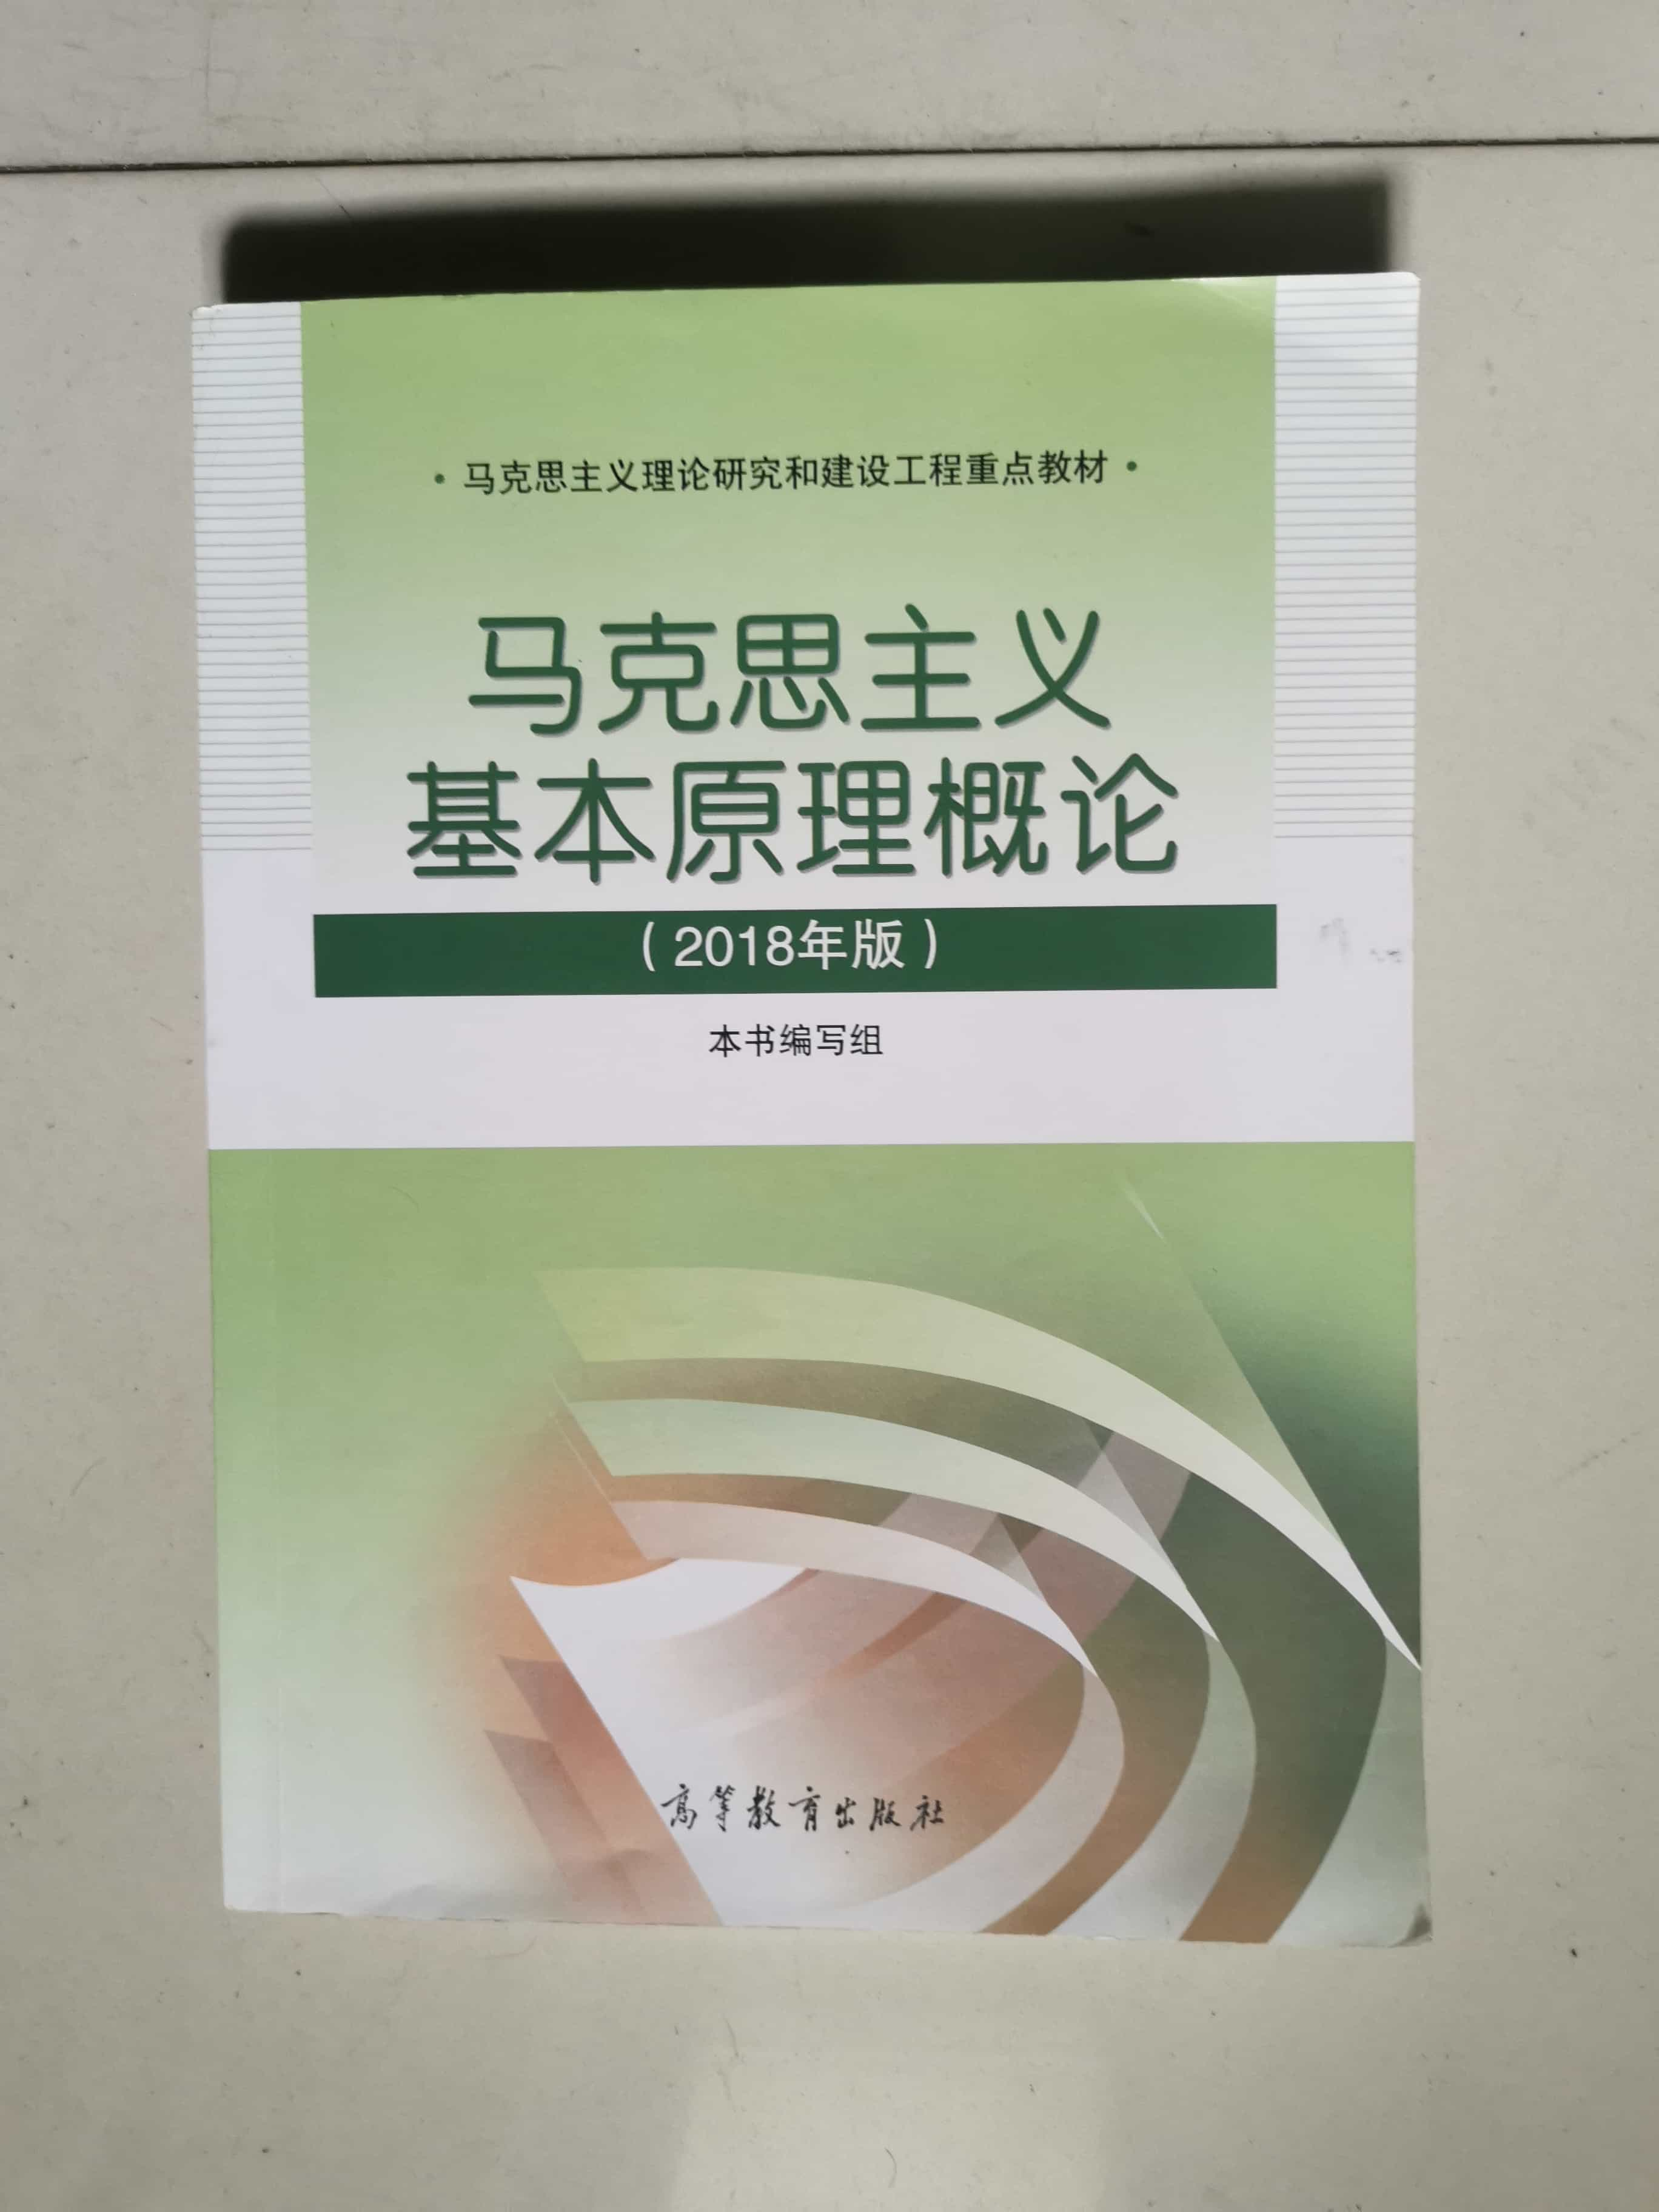book: (150, 251, 1476, 1980)
